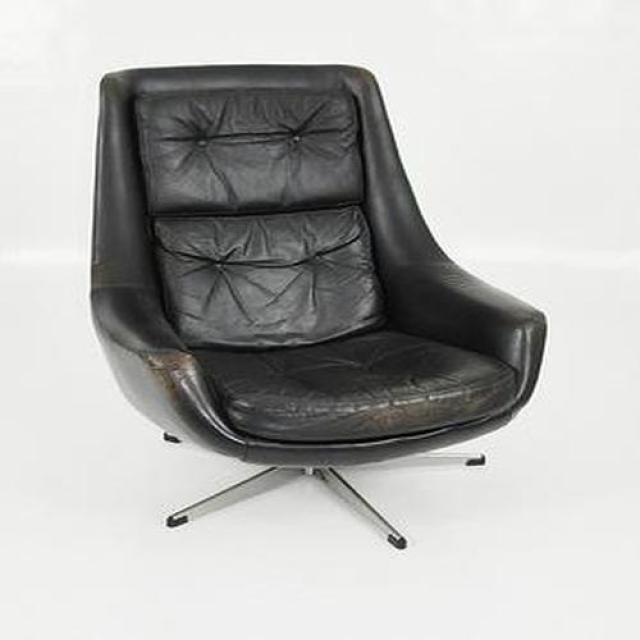swivelchair: (88, 64, 547, 552)
